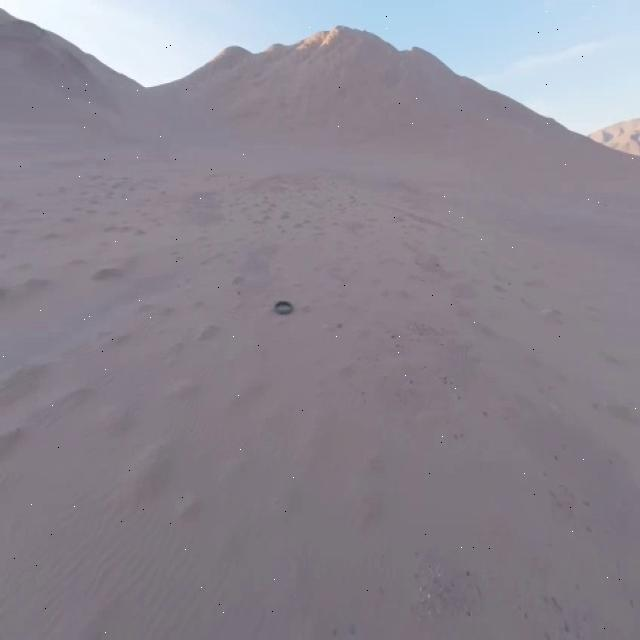Tire: (274, 301, 293, 313)
